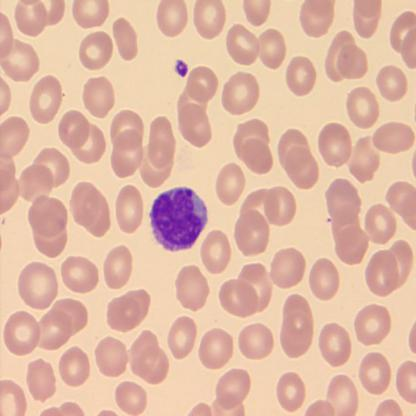Monocyte: (150, 185, 209, 253)
